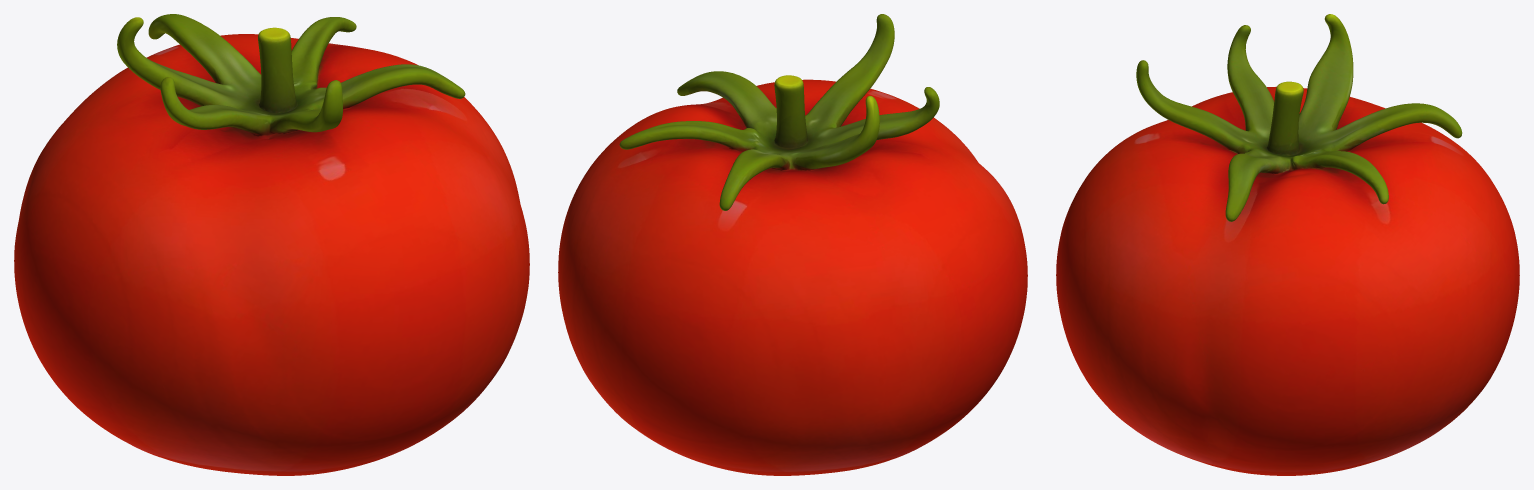
File: tripo_convert_52cfba2e-976f-4cc5-8c69-50969257d2f8.fbx
3 views of the same model, side by side, from view 1: azimuth 30°, elevation 25°; view 2: azimuth 150°, elevation 25°; view 3: azimuth 270°, elevation 25° (orthographic). The views are drawn at different scales.
Parts seen in each view (by area): view 1: tripo_node_52cfba2e; view 2: tripo_node_52cfba2e; view 3: tripo_node_52cfba2e.
Boxes of the visible parts, bbox=[...] form: tripo_node_52cfba2e: bbox=[14, 14, 529, 475]; tripo_node_52cfba2e: bbox=[558, 14, 1027, 475]; tripo_node_52cfba2e: bbox=[1056, 14, 1519, 475].
Size of the model in its own units: 0.9999 by 0.8831 by 0.9992.
